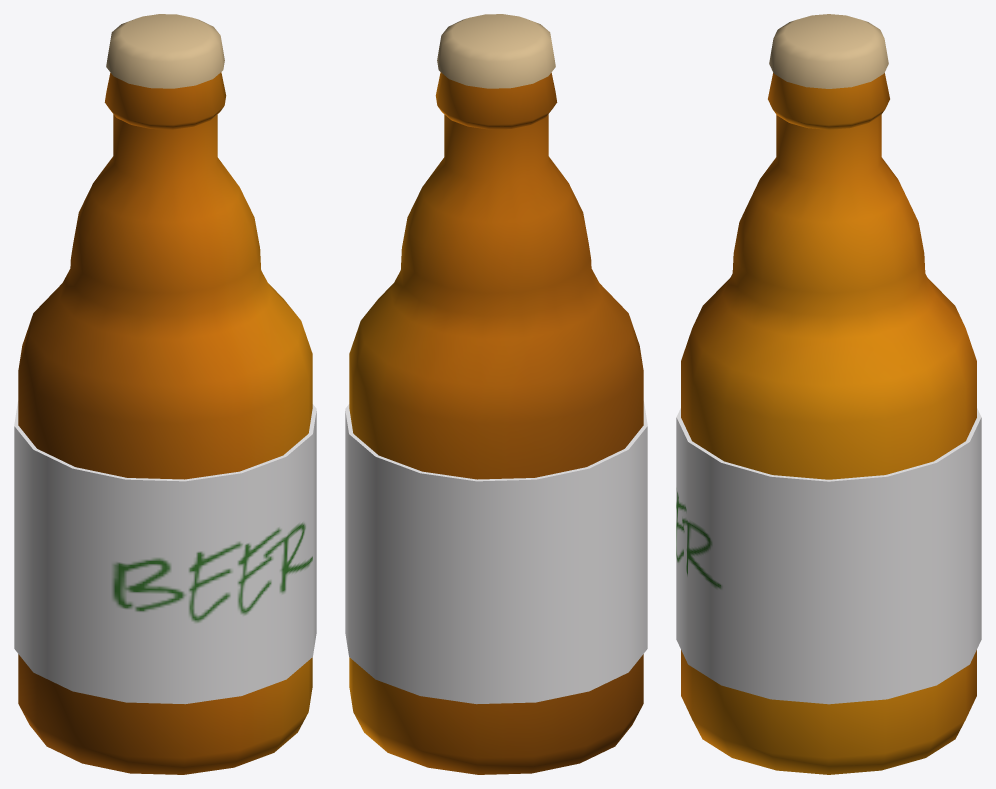
Rendered from SM_Beer.fbx.
3 renders of one model, left to right at view 1: azimuth 30°, elevation 25°; view 2: azimuth 150°, elevation 25°; view 3: azimuth 270°, elevation 25°, orthographic.
Parts seen in each view (by area): view 1: Beer; view 2: Beer; view 3: Beer.
Boxes of the visible parts, x1=… form: Beer: x1=14, y1=14, x2=316, y2=774; Beer: x1=345, y1=14, x2=647, y2=774; Beer: x1=676, y1=14, x2=981, y2=774.
Bounding box in the file's own units: 85.06 × 217 × 85.06.
